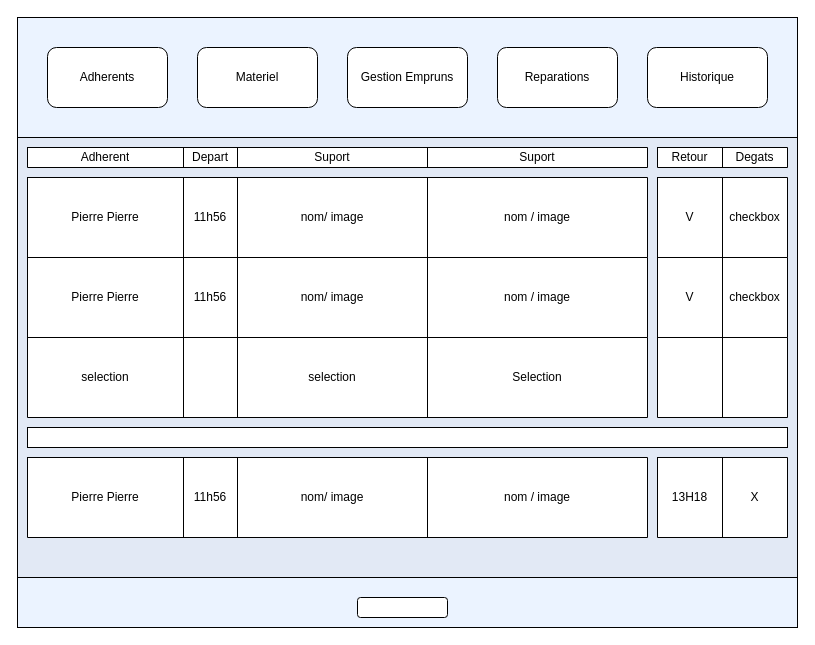
Some shapes in this 815 by 645 pixel diagram are drawn without their labels. Here are the shapes that lost their labels. From the top down, the box of each, then its label:
(26, 426, 788, 448): Rentres
(356, 596, 448, 618): Report bug
